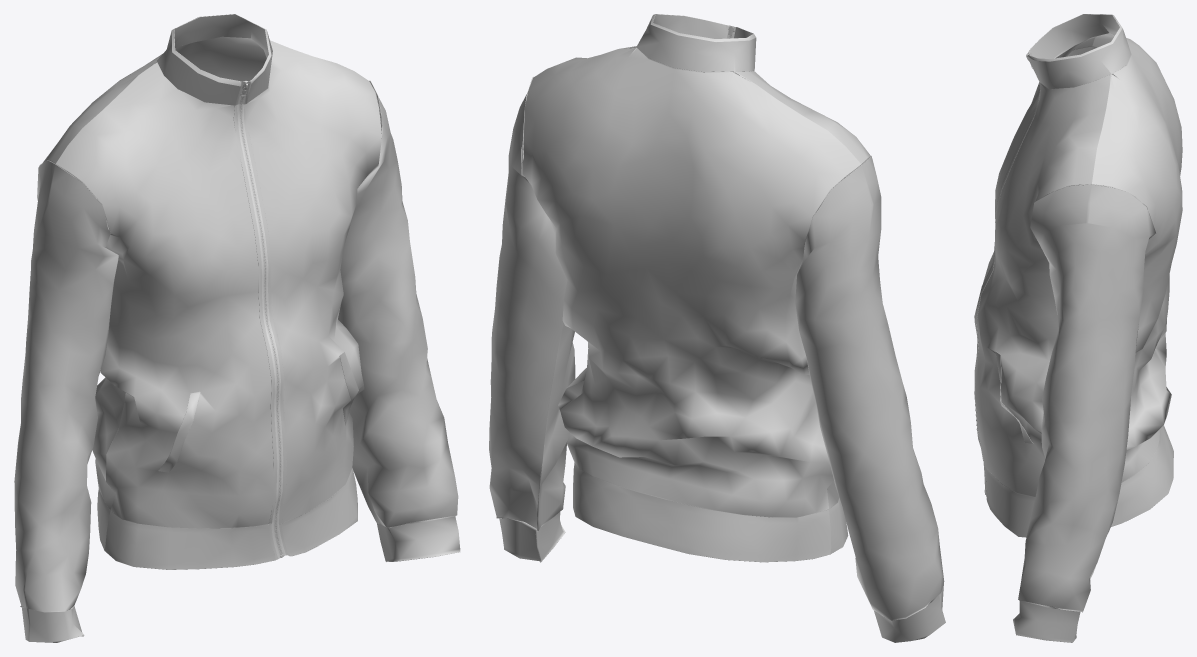
3 renders of one model, left to right at view 1: azimuth 30°, elevation 25°; view 2: azimuth 150°, elevation 25°; view 3: azimuth 270°, elevation 25°, orthographic. The views are drawn at different scales.
Visible parts, largest first — view 1: Cloth; view 2: Cloth; view 3: Cloth.
Boxes of the visible parts, x1,y1,x2,y2 form: Cloth: (14,14,460,642); Cloth: (489,14,945,642); Cloth: (974,14,1182,642).
Size of the model in its own units: 0.6073 by 0.7766 by 0.2754.
Materials: 13 (12 with a texture image).
